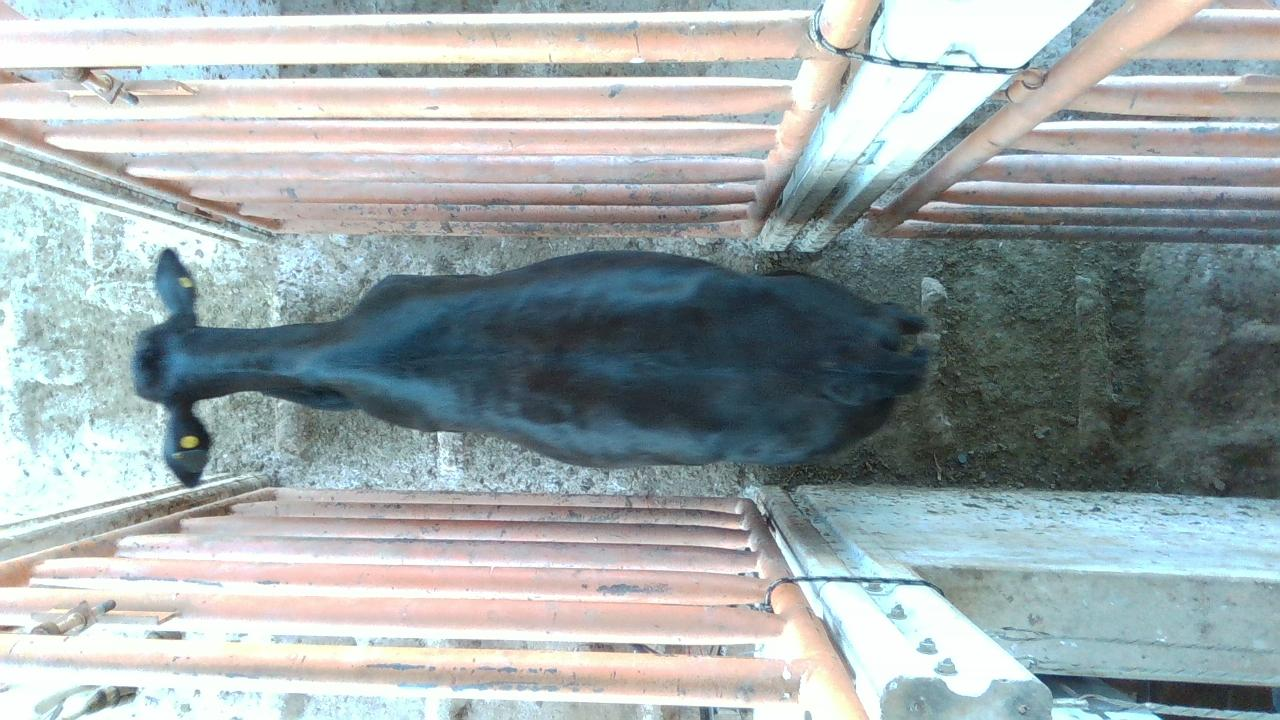cattle: (130, 244, 930, 486)
